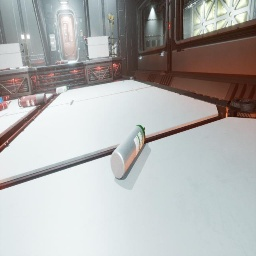0: (110, 125, 145, 179), (56, 86, 69, 94), (19, 66, 29, 68)
EmergencyPhone ,: (80, 28, 83, 36)
FireAlarm ,: (168, 21, 171, 29), (84, 36, 86, 41)
FireExtinguisher ]: (0, 101, 12, 111), (0, 95, 12, 101), (0, 68, 10, 71)
NitrogenTank ,: (18, 93, 47, 108), (55, 60, 68, 65)
SafetySwitchPanel ,: (49, 34, 56, 51)
